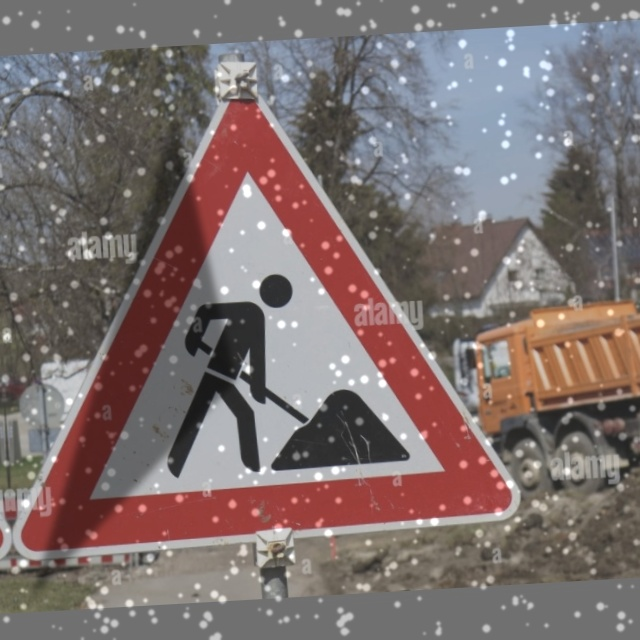Men_at_Work: (57, 94, 488, 534)
